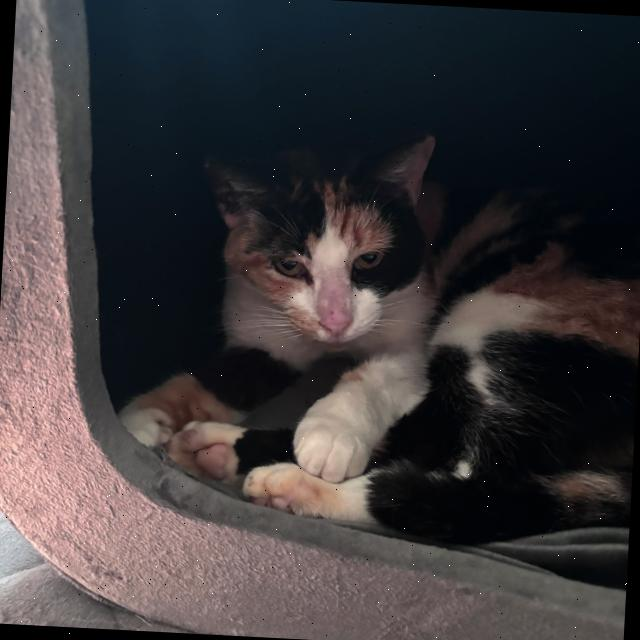calico_cat: (174, 110, 494, 378)
